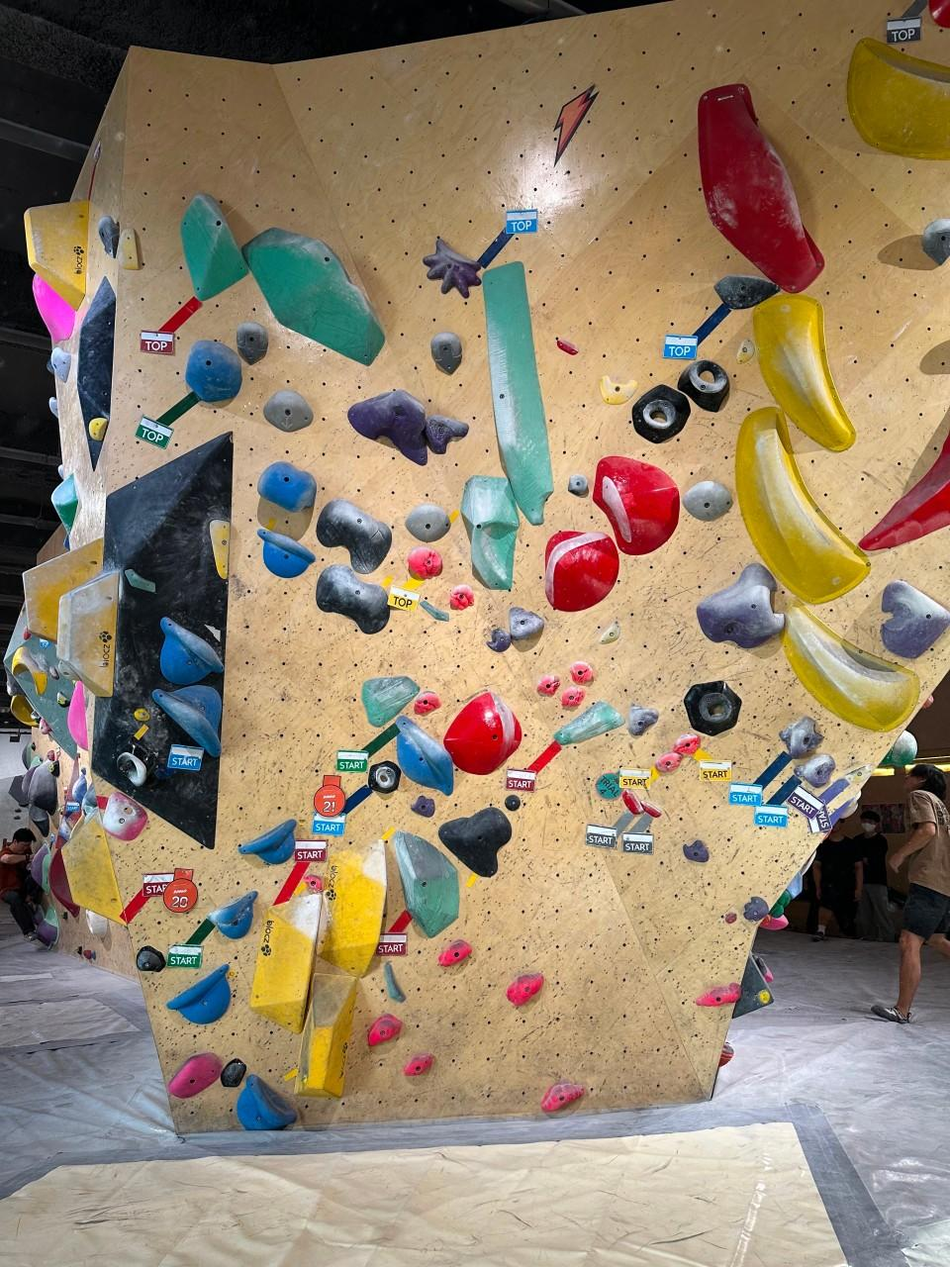hold: (735, 407, 869, 604), (699, 86, 823, 292), (243, 229, 384, 367), (484, 262, 552, 523), (784, 600, 919, 731), (754, 293, 855, 451), (847, 38, 949, 158), (858, 432, 949, 550), (250, 892, 321, 1032), (317, 839, 385, 976), (593, 456, 679, 554), (24, 539, 102, 641), (296, 971, 358, 1095), (57, 573, 118, 696), (699, 562, 783, 648), (180, 194, 248, 300), (24, 200, 88, 311), (393, 830, 457, 937), (62, 811, 123, 923), (443, 691, 522, 774), (461, 476, 519, 589), (347, 390, 427, 464), (545, 532, 618, 611), (317, 500, 389, 572), (881, 581, 949, 657), (438, 807, 511, 877), (316, 565, 389, 634), (152, 684, 222, 755), (396, 717, 453, 794), (160, 618, 222, 685), (420, 234, 482, 295), (168, 965, 230, 1023), (632, 384, 690, 442), (185, 341, 240, 402), (237, 1074, 297, 1129), (32, 273, 76, 345), (553, 700, 623, 745), (684, 680, 740, 734), (361, 676, 419, 726), (258, 462, 316, 511), (238, 819, 296, 864), (258, 530, 314, 576), (678, 360, 727, 411), (169, 1053, 222, 1097), (207, 891, 257, 937), (714, 275, 779, 309), (48, 849, 79, 916), (263, 391, 313, 432), (104, 792, 146, 840), (682, 481, 732, 521), (780, 716, 821, 758), (12, 646, 47, 695), (424, 415, 468, 453), (769, 871, 804, 917), (50, 473, 77, 532), (406, 504, 449, 541), (29, 761, 57, 815), (540, 1082, 585, 1113), (237, 322, 268, 365), (796, 753, 835, 787), (68, 681, 87, 749), (507, 973, 543, 1007), (922, 219, 949, 264), (210, 521, 230, 579), (509, 608, 543, 641), (600, 375, 637, 405), (408, 546, 441, 579), (368, 760, 401, 793), (369, 1014, 402, 1046), (118, 752, 147, 787), (696, 983, 740, 1006), (626, 705, 658, 735), (119, 228, 142, 269), (438, 939, 471, 966), (385, 962, 405, 1002), (48, 346, 70, 382), (136, 945, 165, 972), (30, 845, 48, 887), (221, 1058, 246, 1088), (123, 569, 154, 592), (414, 690, 441, 715), (449, 584, 474, 610), (70, 769, 87, 807), (654, 752, 683, 774), (743, 897, 768, 922), (86, 910, 107, 939), (683, 839, 709, 862), (404, 1055, 432, 1076), (422, 599, 448, 621), (673, 733, 700, 754), (571, 660, 594, 684), (621, 790, 644, 814), (411, 795, 434, 818), (487, 629, 510, 651), (537, 674, 559, 696), (567, 474, 588, 497), (89, 416, 108, 440), (737, 338, 755, 363), (562, 687, 584, 707), (57, 815, 73, 842), (599, 621, 619, 642), (717, 1042, 733, 1068), (41, 853, 51, 894), (756, 988, 773, 1007), (557, 338, 577, 353), (644, 803, 660, 818), (306, 876, 321, 891), (48, 760, 59, 778), (505, 796, 519, 810), (57, 692, 69, 707), (39, 638, 52, 650), (48, 666, 59, 679), (135, 709, 147, 720), (724, 913, 736, 924), (23, 627, 31, 639)
volume: (93, 433, 233, 849), (77, 277, 117, 473)
